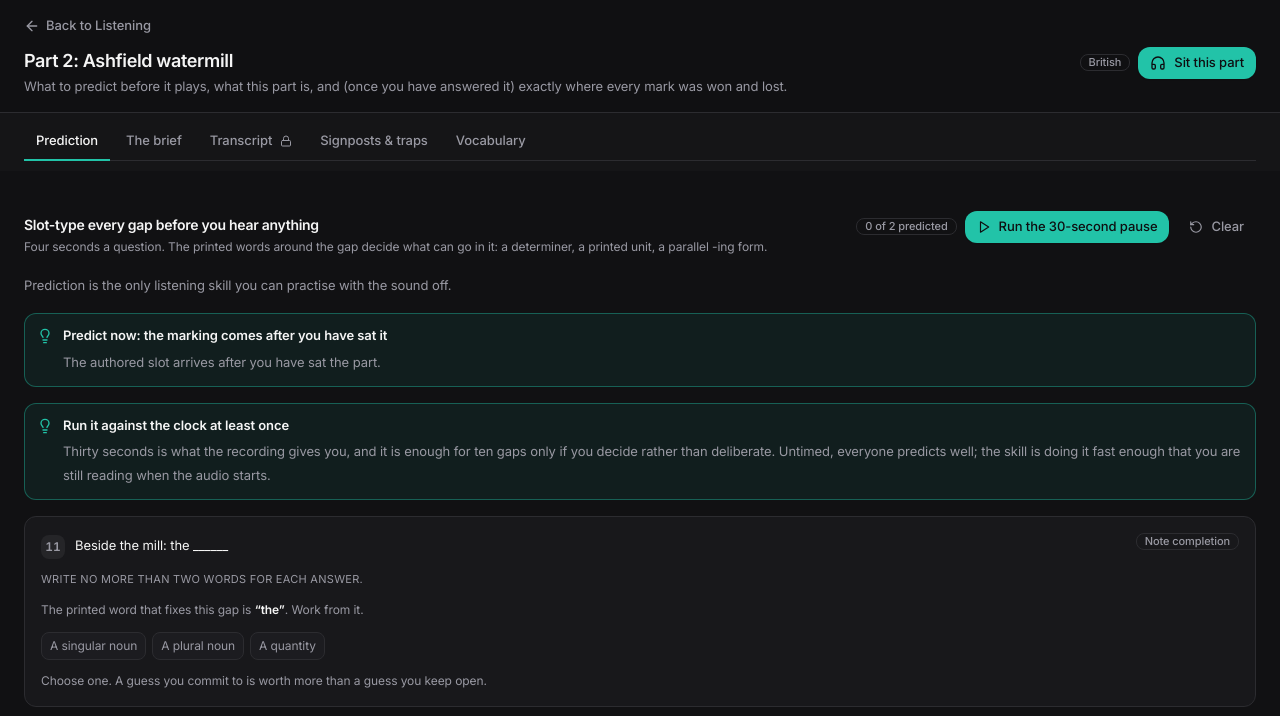
it: the listening coach › teaches the signpost kinds before the phrases are unlocked
Click the tab "Signposts & traps". click: (374, 142)
box: [308,123,440,161]
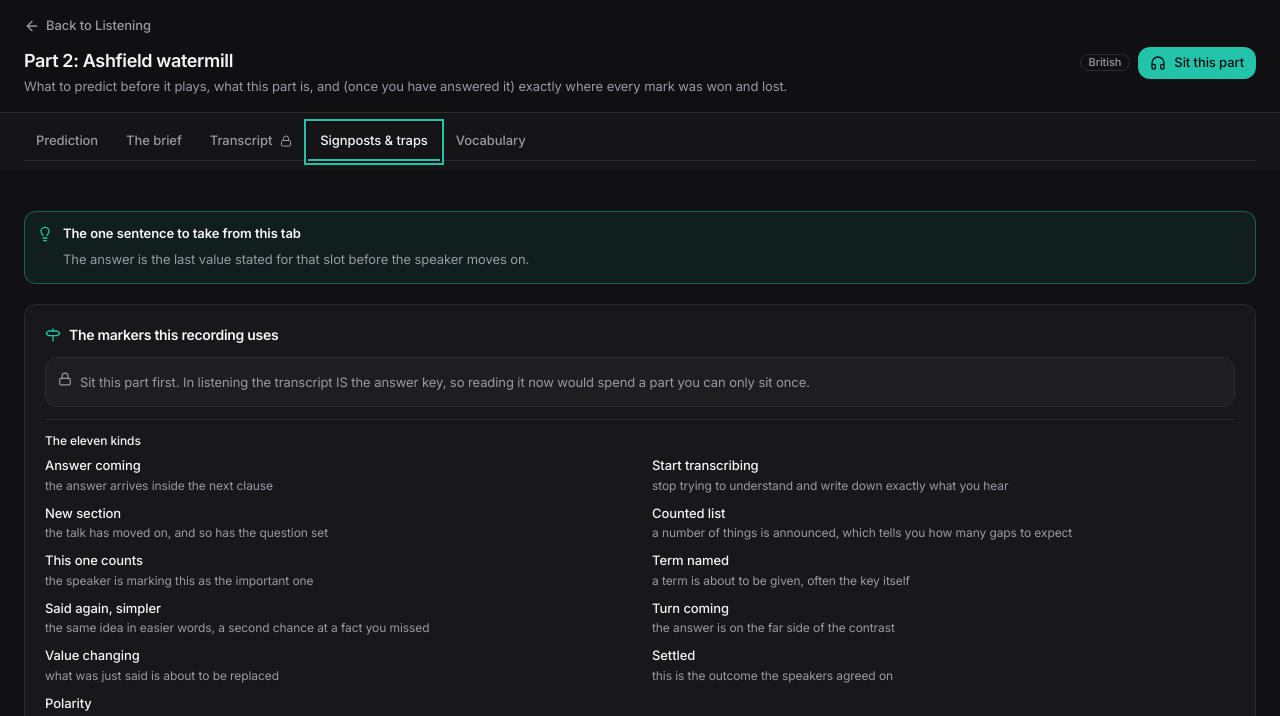
Result: the text "Answer coming" is shown at [45,457,141,473]
Result: the text "Sit this part first. In listen" is shown at [80,374,810,390]
